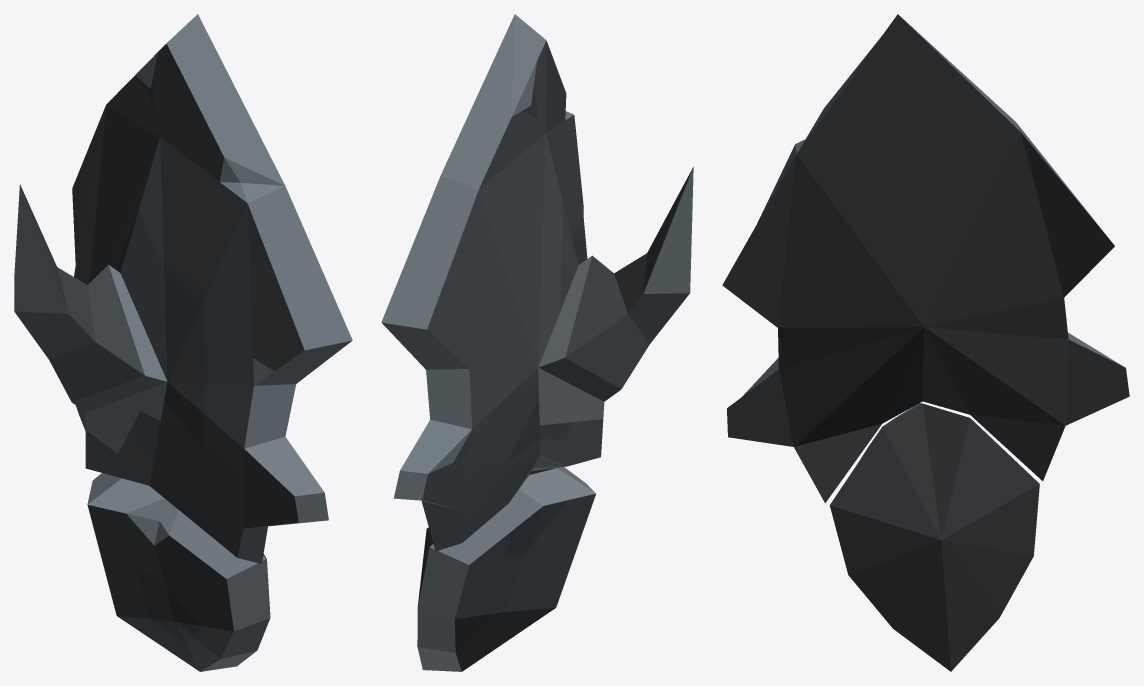
The model's file is SM_Chr_Attach_Armour_Dark_Leg_FR_Wolf_01.fbx.
The picture shows the model from 3 angles, left to right: view 1: azimuth 30°, elevation 25°; view 2: azimuth 150°, elevation 25°; view 3: azimuth 270°, elevation 25°; orthographic projection. The views are drawn at different scales.
Parts seen in each view (by area): view 1: SM_Chr_Attach_Armour_Dark_Leg_FR_Wolf_01; view 2: SM_Chr_Attach_Armour_Dark_Leg_FR_Wolf_01; view 3: SM_Chr_Attach_Armour_Dark_Leg_FR_Wolf_01.
Part boxes in pixels (box(x1,y1,x2,y2)): SM_Chr_Attach_Armour_Dark_Leg_FR_Wolf_01: box(14, 14, 352, 671); SM_Chr_Attach_Armour_Dark_Leg_FR_Wolf_01: box(381, 14, 693, 671); SM_Chr_Attach_Armour_Dark_Leg_FR_Wolf_01: box(722, 14, 1129, 671).
Bounding box in the file's own units: 12.83 × 33.28 × 19.58.
